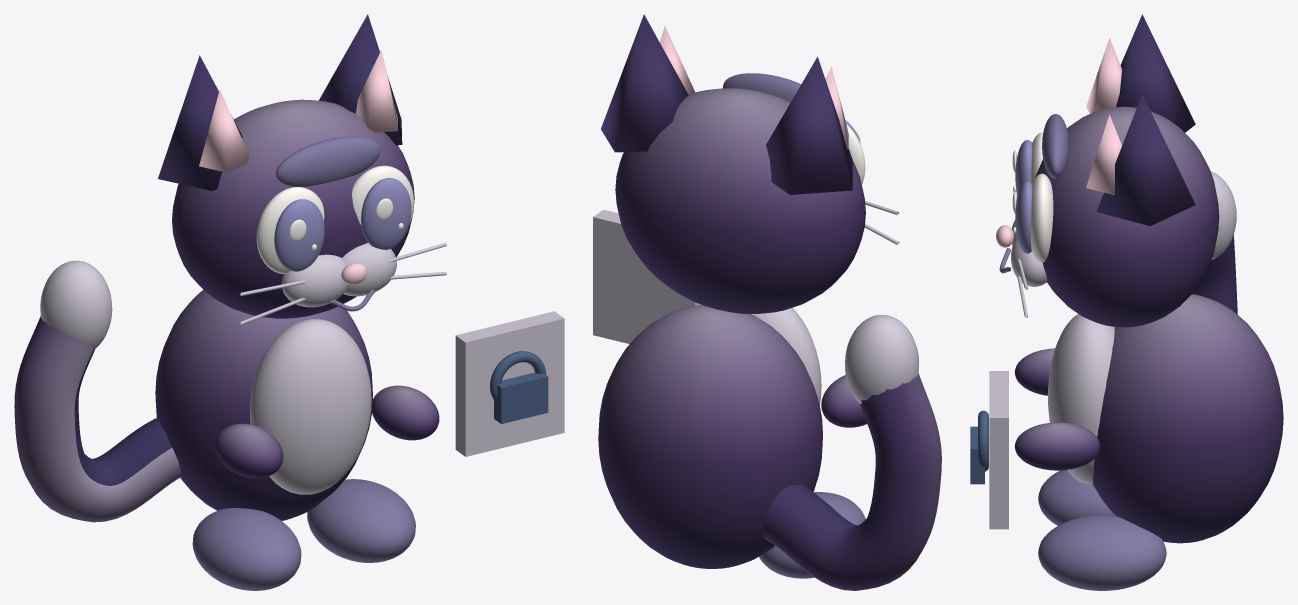
File: legal-redaction-guard.glb
3 renders of one model, left to right at view 1: azimuth 30°, elevation 25°; view 2: azimuth 150°, elevation 25°; view 3: azimuth 270°, elevation 25°, orthographic. The views are drawn at different scales.
Visible parts, largest first — view 1: Rounded cat head, Seated cat body, Curled cat tail, Cat bib, Protected document, Grounded foot, Grounded foot.001, Tail tuft, Cat ear, Midnight forehead crest, Cat ear.001, Posed paw (+11 smaller); view 2: Seated cat body, Rounded cat head, Curled cat tail, Cat ear, Protected document, Cat ear.001, Tail tuft, Cat bib, Grounded foot, Posed paw, Midnight forehead crest, Cat inner ear.001 (+2 smaller); view 3: Seated cat body, Rounded cat head, Grounded foot.001, Cat ear.001, Cat bib, Cat ear, Posed paw.001, Protected document, Grounded foot, Curled cat tail, Sclera 1, Cat inner ear (+10 smaller).
Part boxes in pixels (left/top/right/bottom): Rounded cat head: left=172, top=99, right=414, bottom=318; Seated cat body: left=155, top=289, right=372, bottom=520; Curled cat tail: left=14, top=316, right=181, bottom=522; Cat bib: left=250, top=319, right=371, bottom=494; Protected document: left=455, top=311, right=564, bottom=456; Grounded foot: left=192, top=508, right=301, bottom=590; Grounded foot.001: left=307, top=479, right=415, bottom=562; Tail tuft: left=40, top=260, right=112, bottom=349; Cat ear: left=158, top=55, right=242, bottom=191; Midnight forehead crest: left=276, top=136, right=380, bottom=187; Cat ear.001: left=319, top=14, right=402, bottom=145; Posed paw: left=215, top=423, right=283, bottom=478; Seated cat body: left=598, top=305, right=822, bottom=568; Rounded cat head: left=615, top=88, right=865, bottom=314; Curled cat tail: left=762, top=373, right=941, bottom=590; Cat ear: left=766, top=56, right=853, bottom=194; Protected document: left=593, top=209, right=701, bottom=343; Cat ear.001: left=601, top=14, right=688, bottom=152; Tail tuft: left=845, top=314, right=918, bottom=403; Cat bib: left=751, top=307, right=821, bottom=405; Grounded foot: left=759, top=492, right=865, bottom=578; Posed paw: left=821, top=375, right=867, bottom=427; Midnight forehead crest: left=723, top=73, right=800, bottom=102; Cat inner ear.001: left=660, top=26, right=695, bottom=94; Seated cat body: left=1092, top=294, right=1283, bottom=543; Rounded cat head: left=1035, top=106, right=1219, bottom=327; Grounded foot.001: left=1038, top=515, right=1166, bottom=590; Cat ear.001: left=1096, top=94, right=1195, bottom=226; Cat bib: left=1048, top=314, right=1114, bottom=484; Cat ear: left=1116, top=14, right=1195, bottom=132; Posed paw.001: left=1014, top=422, right=1100, bottom=470; Protected document: left=989, top=371, right=1008, bottom=529; Grounded foot: left=1038, top=470, right=1115, bottom=525; Curled cat tail: left=1192, top=234, right=1237, bottom=314; Sclera 1: left=1031, top=173, right=1053, bottom=262; Cat inner ear: left=1086, top=38, right=1122, bottom=113.
Size of the model in its own units: 2.51 by 2.85 by 1.61.
7 materials, 1 textured.
